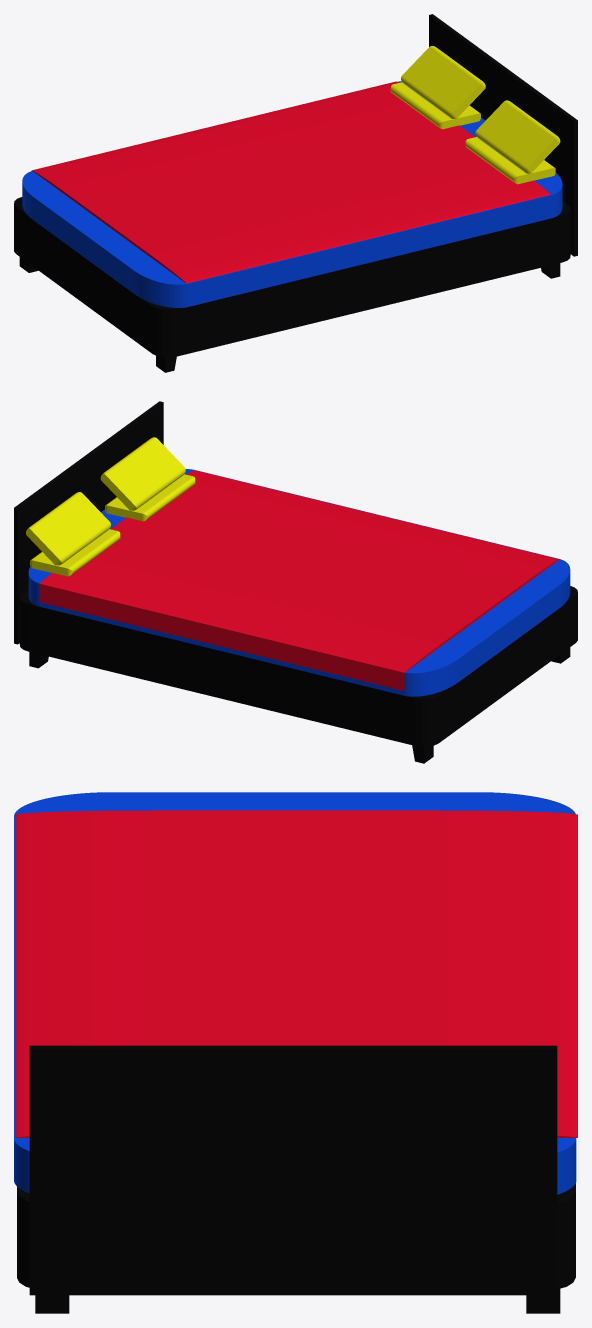
Rendered from Double_Bed.fbx.
3 views of the same model, one above another, from view 1: azimuth 30°, elevation 25°; view 2: azimuth 150°, elevation 25°; view 3: azimuth 270°, elevation 25° (orthographic). The views are drawn at different scales.
Visible parts, largest first — view 1: Messy_Bed.001; view 2: Messy_Bed.001; view 3: Messy_Bed.001.
Part boxes in pixels (x1=…): Messy_Bed.001: x1=14, y1=14, x2=577, y2=372; Messy_Bed.001: x1=14, y1=401, x2=577, y2=763; Messy_Bed.001: x1=14, y1=792, x2=577, y2=1313.
Bounding box in the file's own units: 1798 × 626 × 1147.
